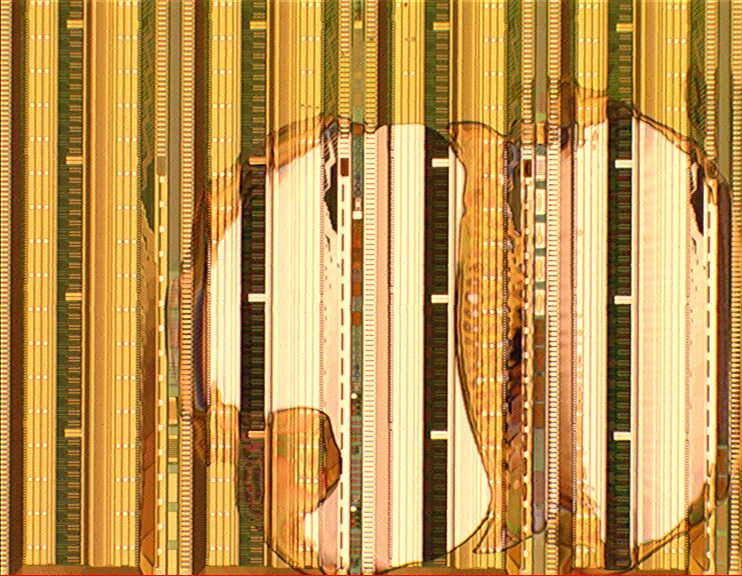COATING BAD: (9, 76, 742, 576)
